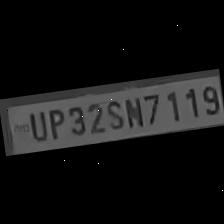1: (160, 86, 184, 122), (178, 84, 201, 120)
2: (83, 98, 106, 134)
3: (62, 101, 86, 136)
7: (139, 90, 164, 127)
9: (196, 80, 222, 118)
N: (120, 93, 144, 129)
P: (43, 104, 67, 140)
S: (102, 96, 124, 130)
U: (24, 108, 46, 142)
